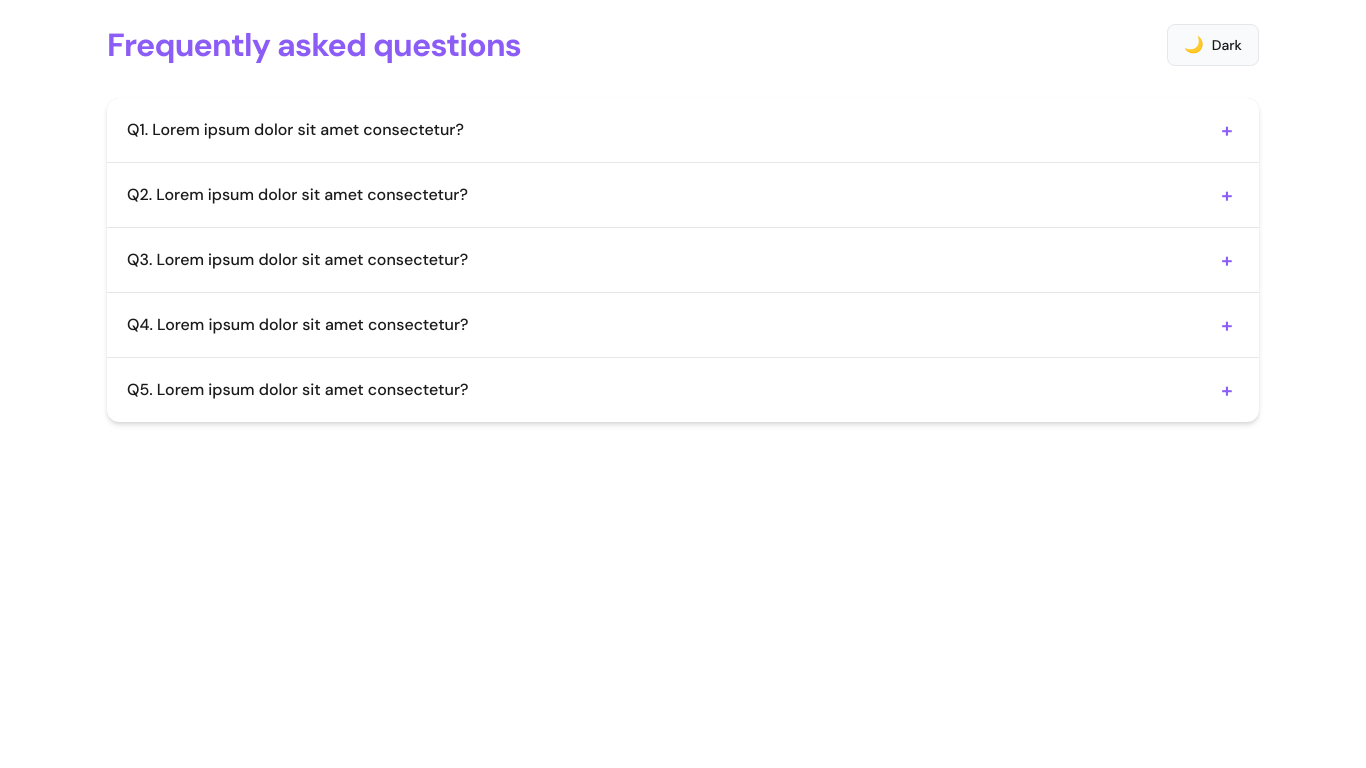
Test: Interactive UI Accordion › toggles theme on theme button click
# Click to switch to dark theme
Click the button with aria-label "switch to dark theme": (1213, 45) [1167, 24, 1259, 66]
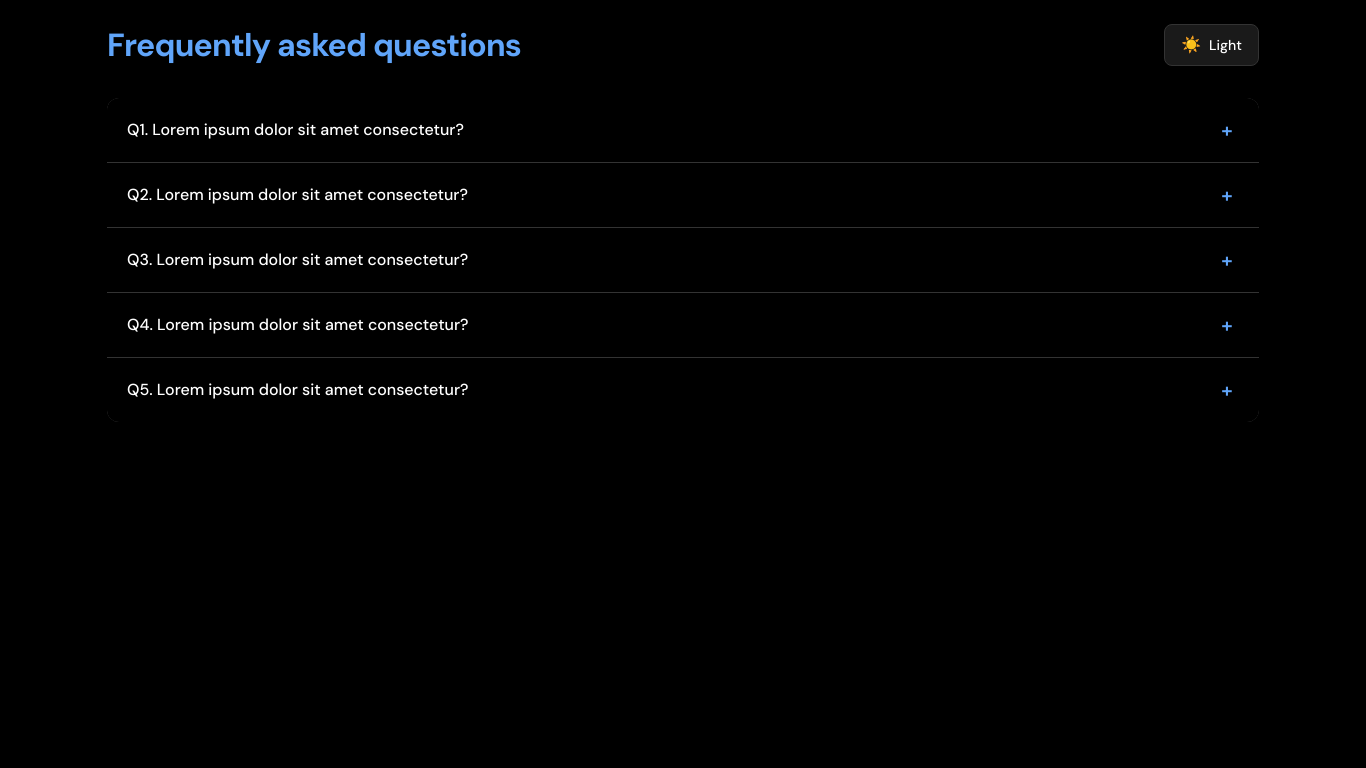
Expected: the button with aria-label "switch to light theme" is shown, [1164, 24, 1259, 66]
